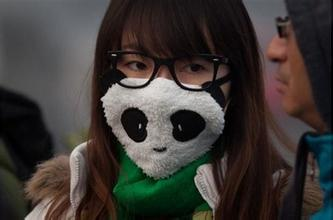NONE: (268, 10, 333, 118)
OK: (116, 42, 224, 156)
